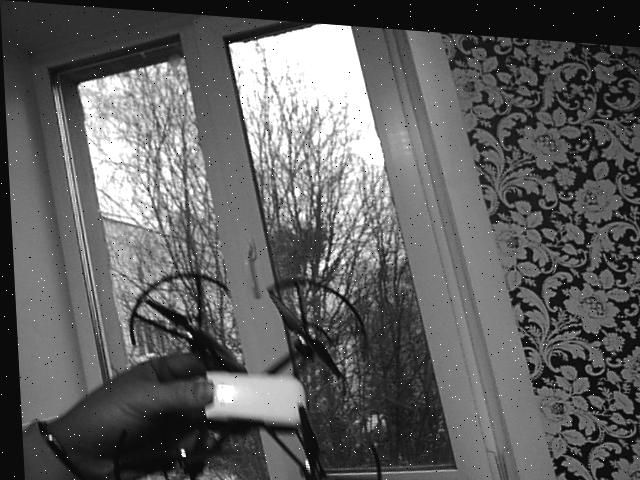drone: (94, 255, 392, 480)
